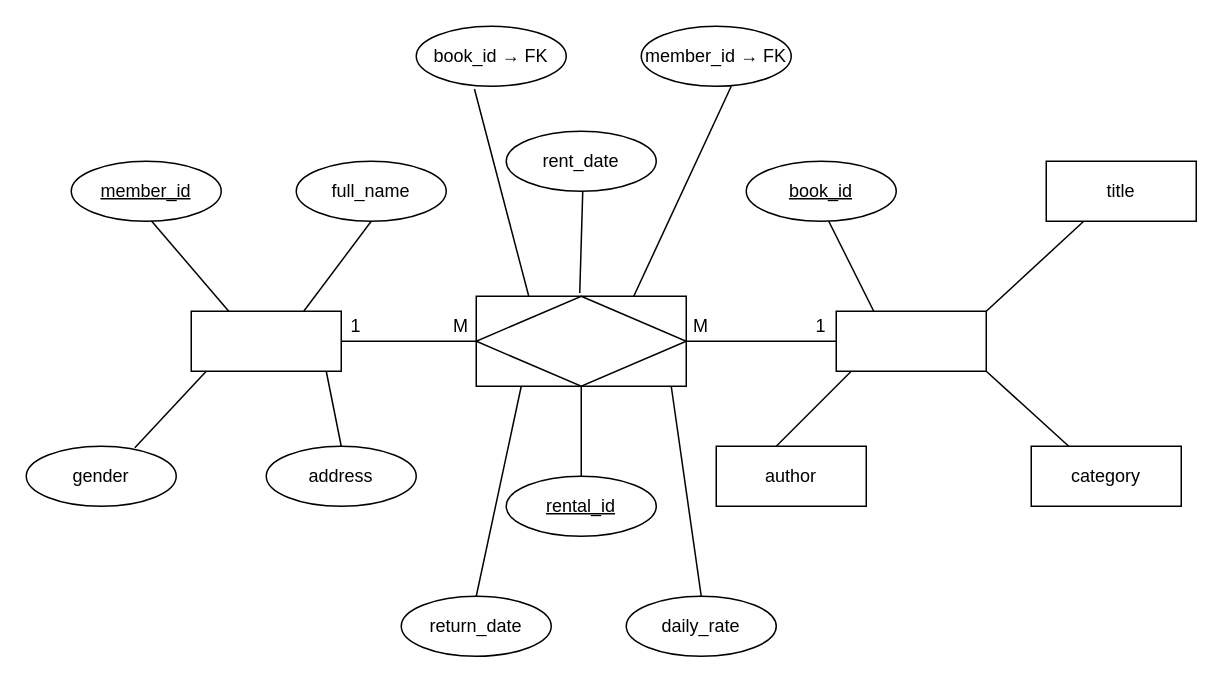
Some shapes in this 1223 by 683 pixel diagram are drawn without their labels. Here are the shapes that lost their labels. From the top down, the box of each, then its label:
(190, 310, 341, 371): member
(475, 295, 686, 386): Associative Entity
(835, 310, 986, 371): books
